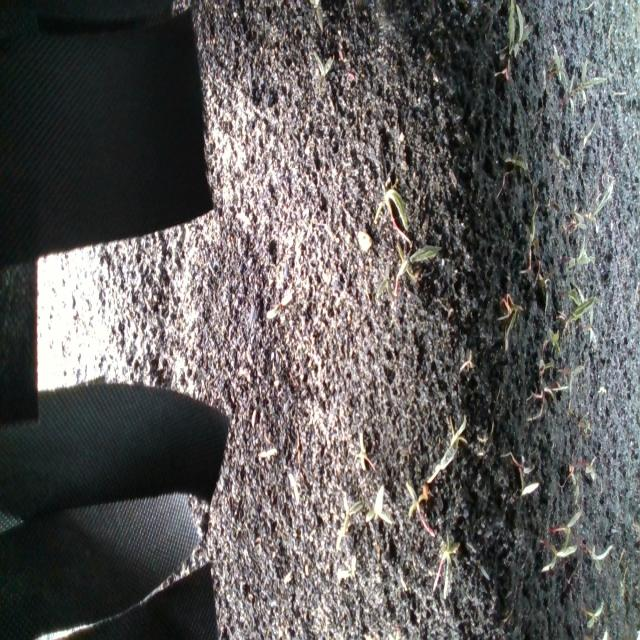weed: (540, 509, 574, 575), (313, 52, 331, 90)
